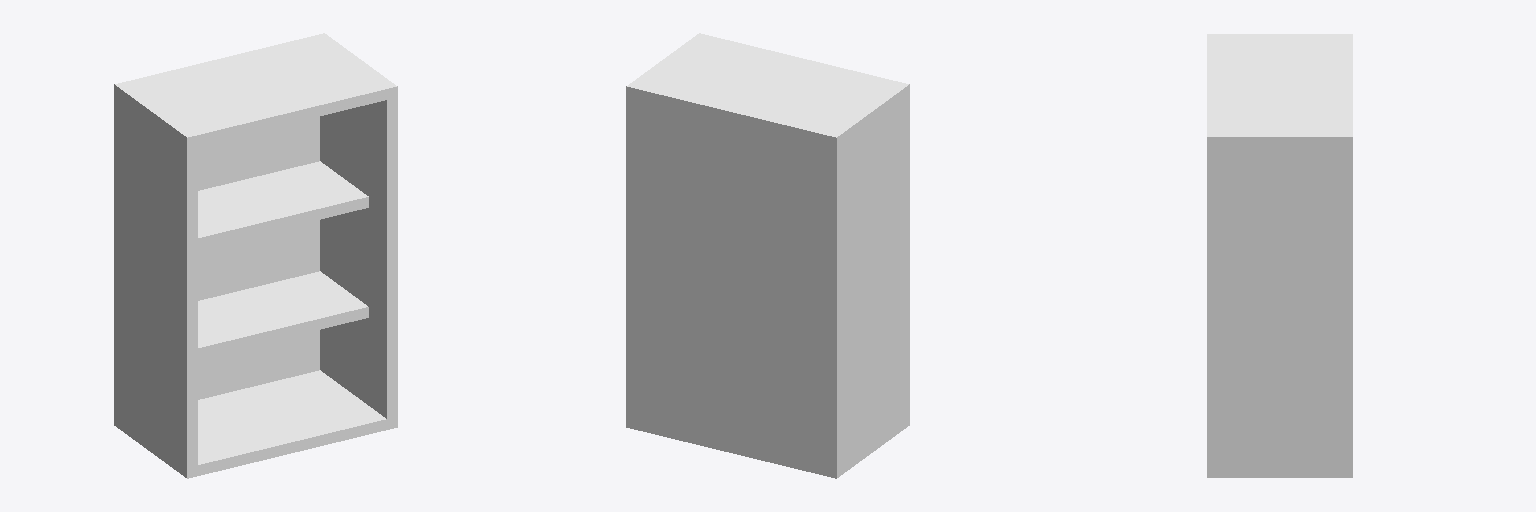
Rendered from Spind-no-doors.obj.
3 renders of one model, left to right at view 1: azimuth 30°, elevation 25°; view 2: azimuth 150°, elevation 25°; view 3: azimuth 270°, elevation 25°, orthographic.
Visible parts, largest first — view 1: object 1; view 2: object 1; view 3: object 1.
Boxes of the visible parts, box(x1,y1,x2,y2) form: object 1: box(114, 33, 397, 478); object 1: box(626, 33, 909, 478); object 1: box(1207, 34, 1352, 477).
Bounding box in the file's own units: 2 × 3.1 × 1.2.